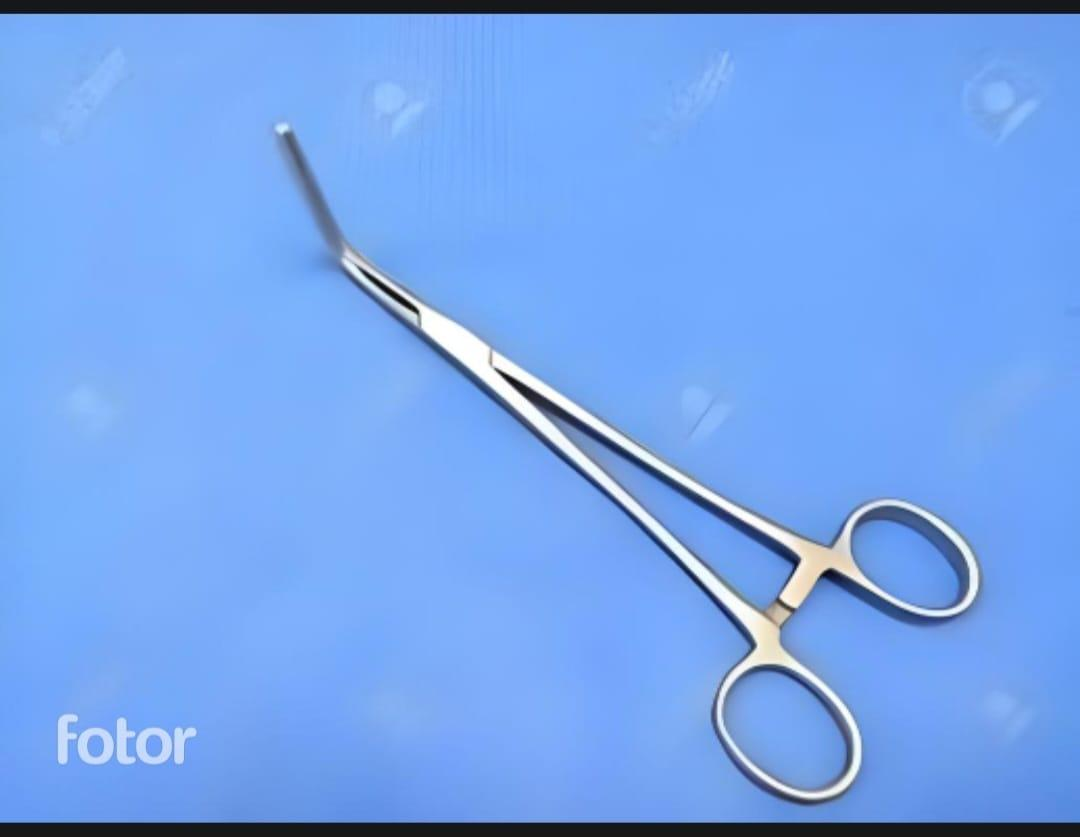Rectangle Cholecystectomy Forceps: (263, 120, 989, 810)
